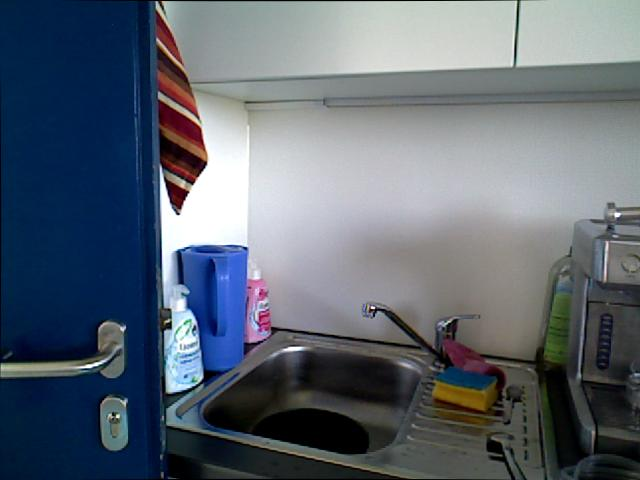bench: (150, 282, 204, 397), (542, 242, 580, 366), (241, 258, 282, 350)
couch: (200, 338, 427, 458)
handbag: (174, 241, 252, 369)
toilet: (482, 423, 538, 480), (500, 380, 526, 425)
